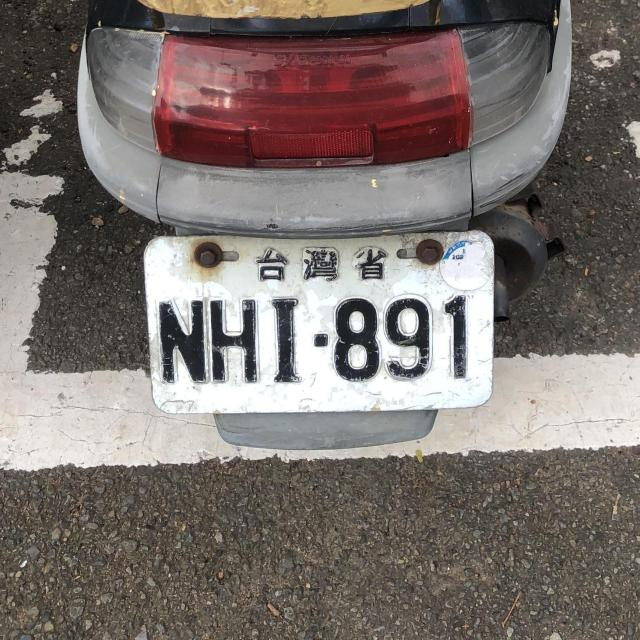W: (135, 223, 495, 415)
